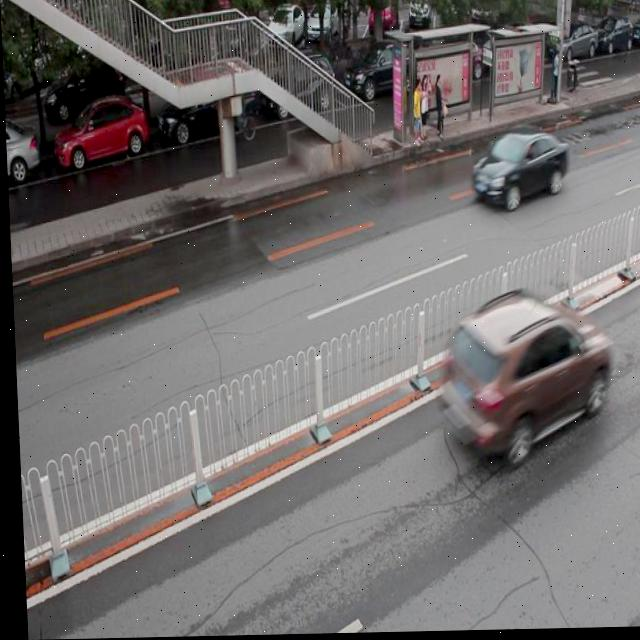car: (434, 290, 612, 467), (466, 132, 569, 213), (50, 98, 148, 168), (152, 76, 255, 141), (340, 43, 420, 107), (262, 57, 335, 124), (4, 117, 39, 186)
